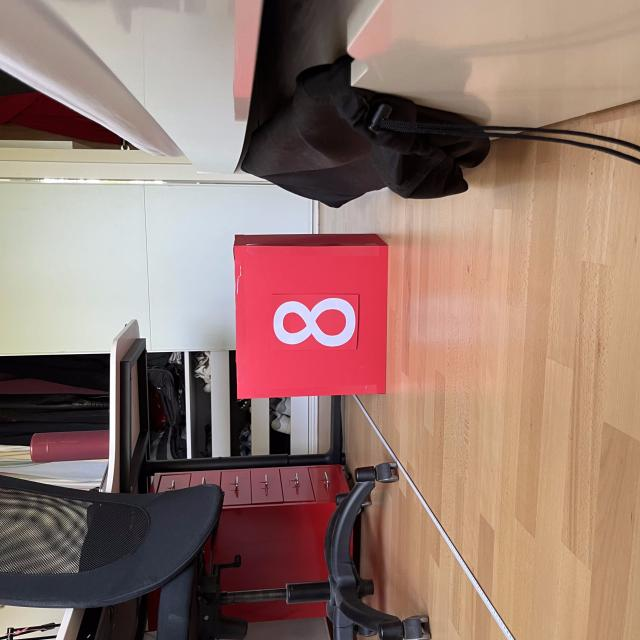box: (229, 229, 392, 400)
